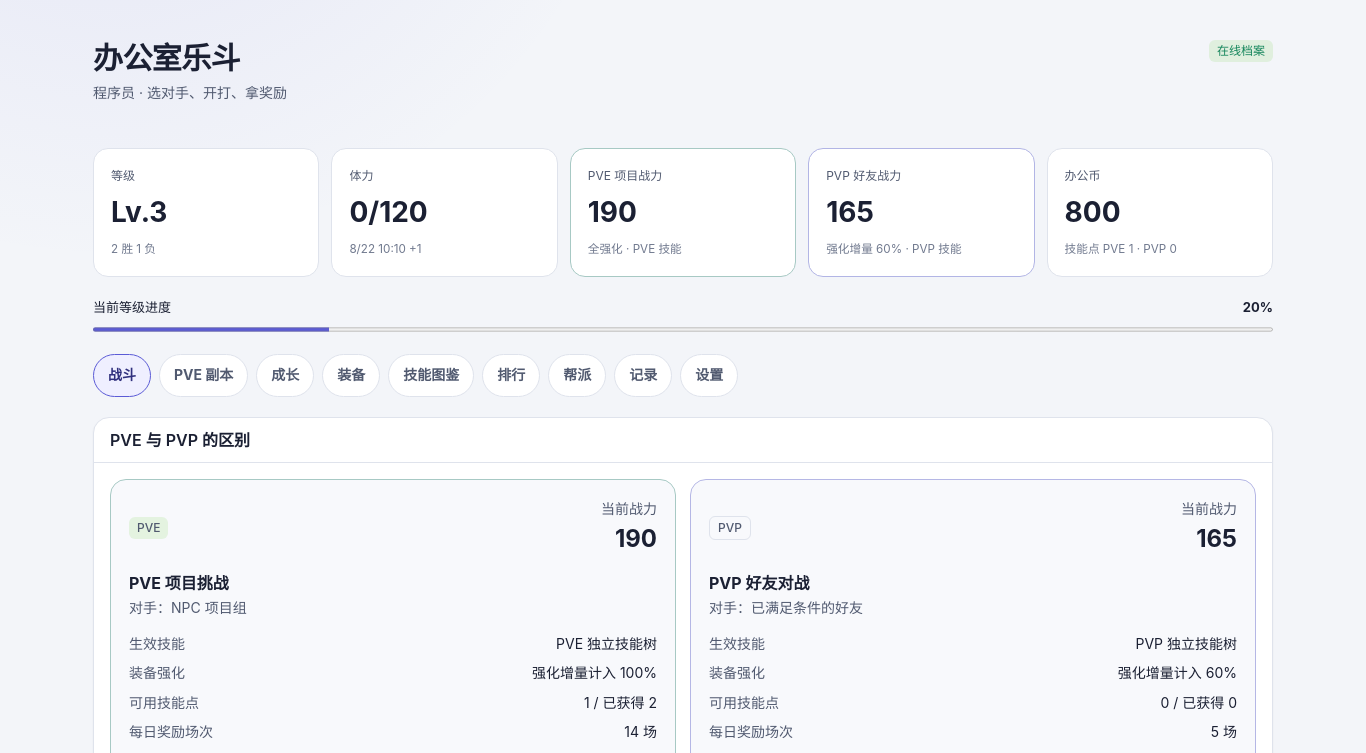
Test: CommunityBattlePage formal archive › shows a sequential PVE chapter route with first-clear rewards
Step 1. Click the tab "PVE 副本" → (204,376), box left=159, top=354, right=248, bottom=397
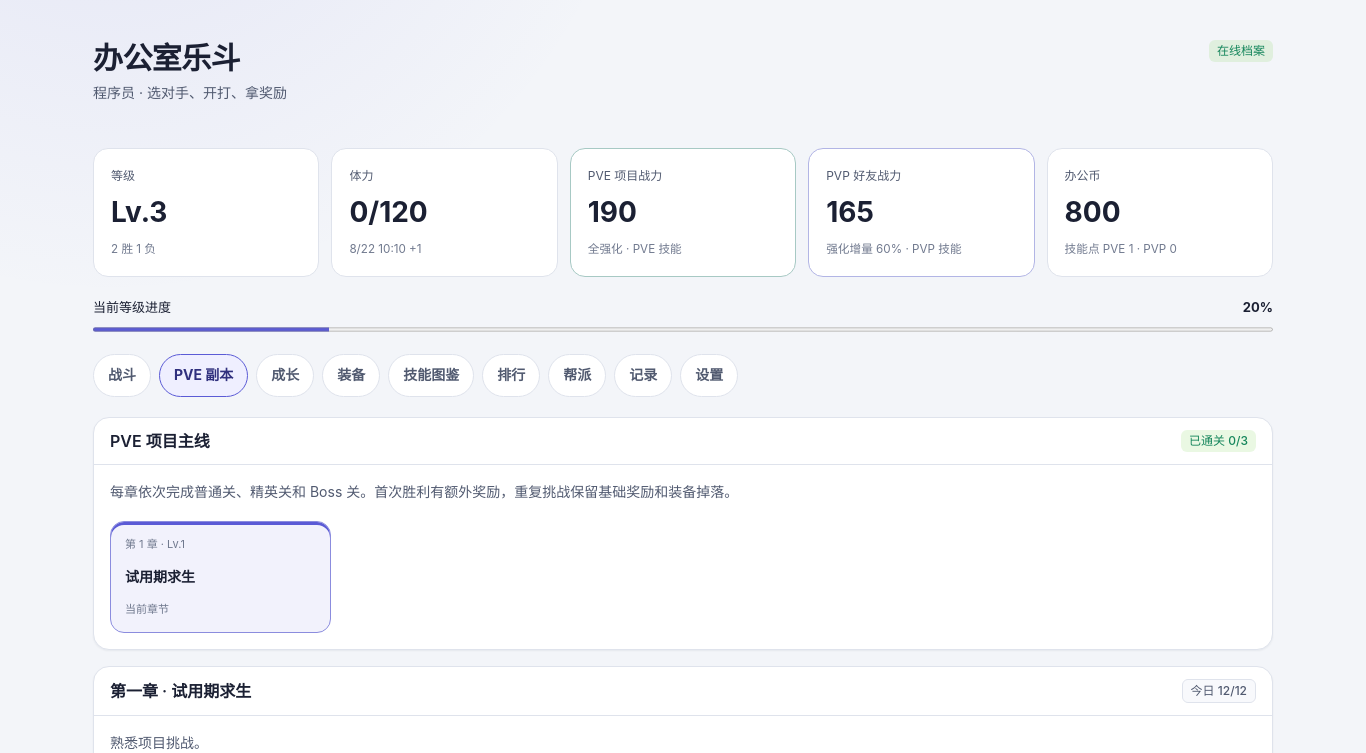
Check: the text "已通关 0/3" is shown, box left=1181, top=430, right=1256, bottom=452
Check: the heading "PVE 项目主线" is shown, box left=110, top=431, right=210, bottom=451
Check: the text "试用期求生" is shown, box left=125, top=568, right=195, bottom=585
